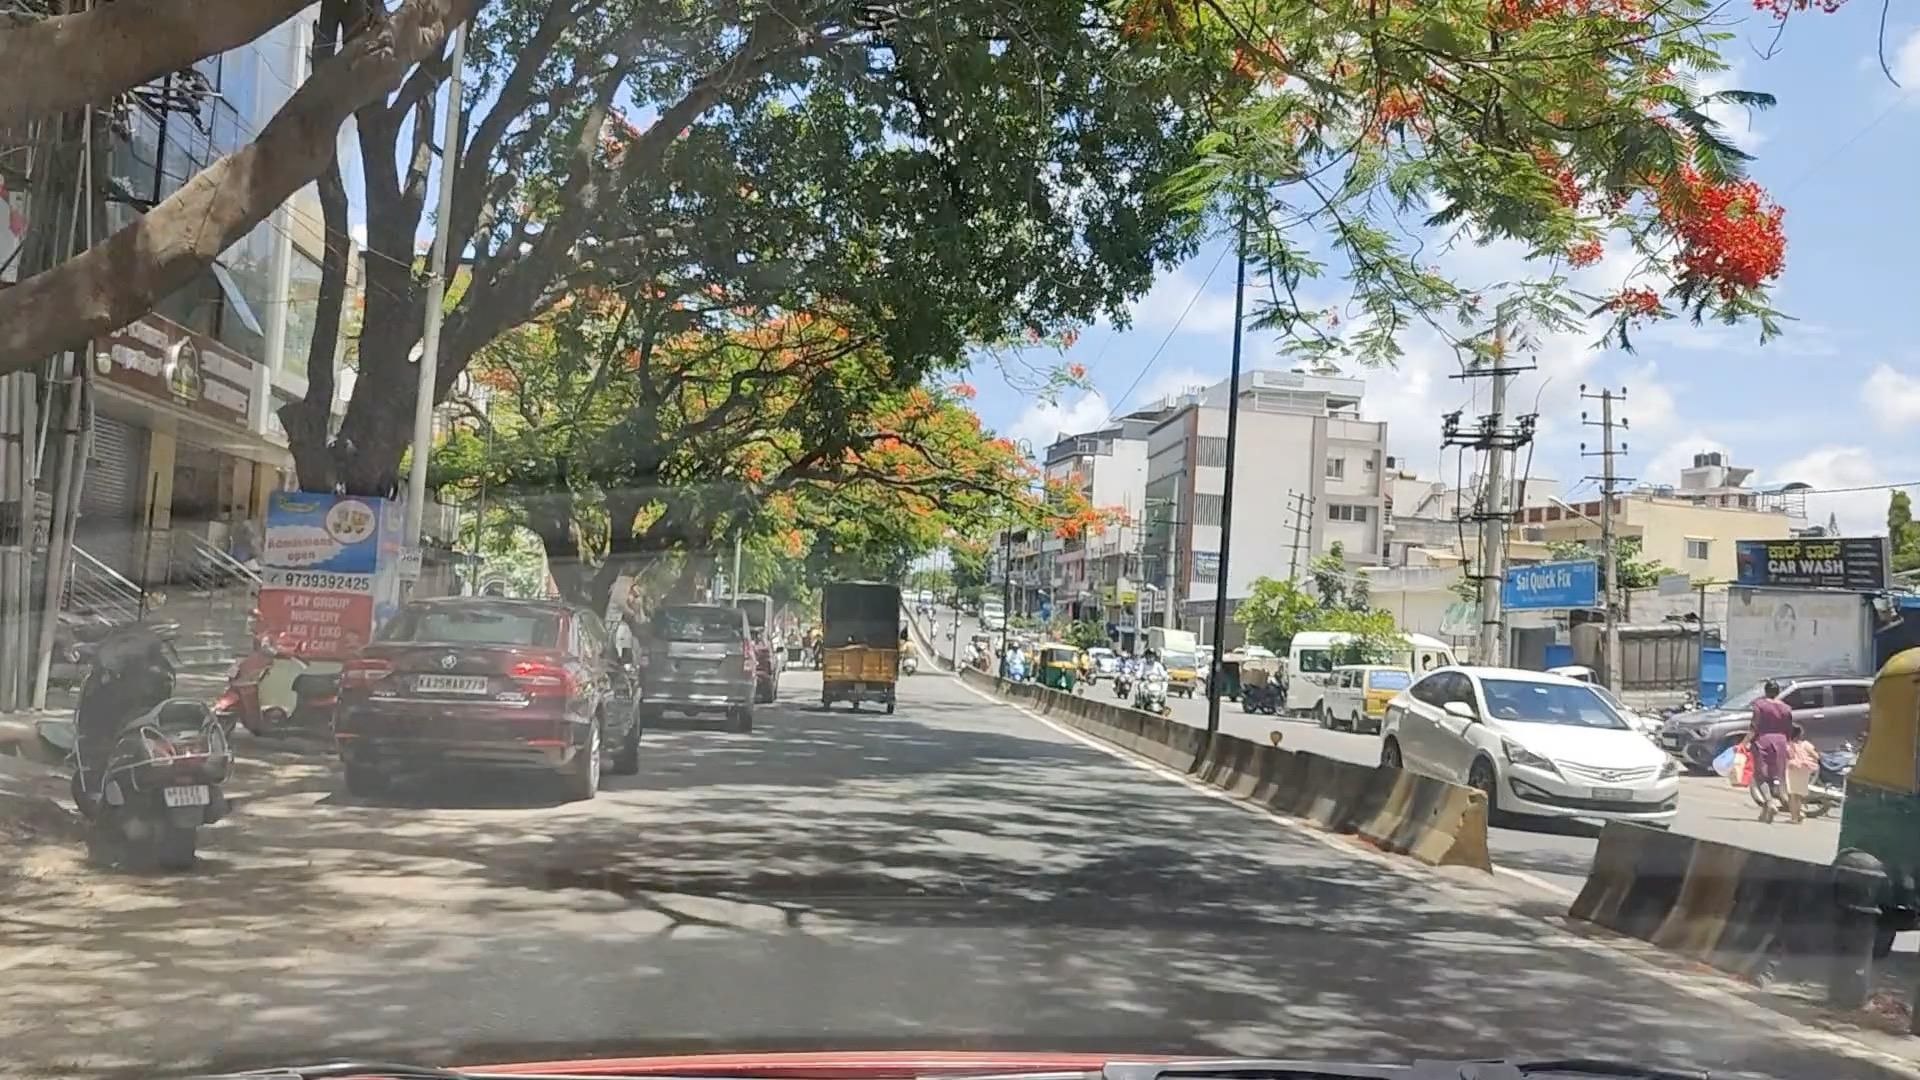HMV: (820, 574, 891, 705)
LMV: (319, 583, 687, 798)
